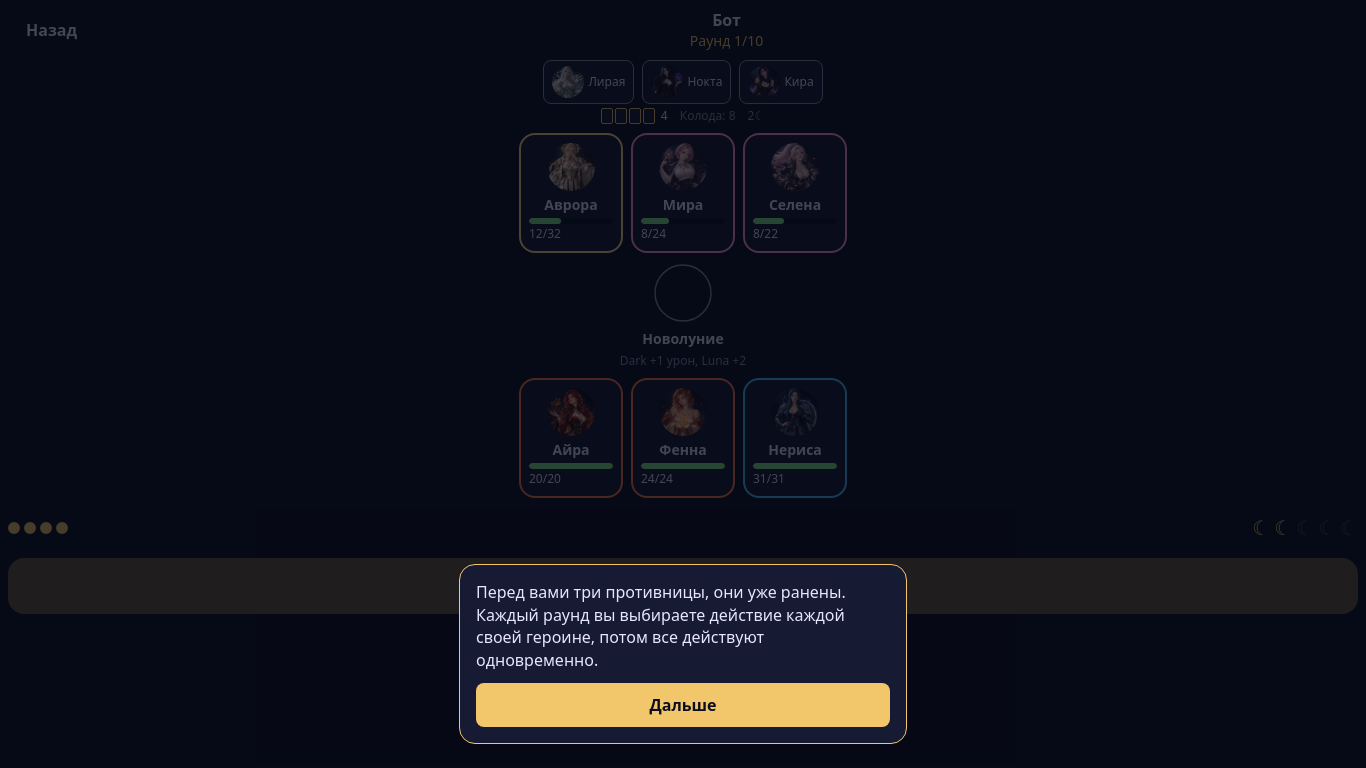
it: экран обучения › цели сужены до требуемой; верная цель продвигает шаг
This screenshot has width=1366, height=768.
Click the button "Дальше": (683, 705) [476,683,890,727]
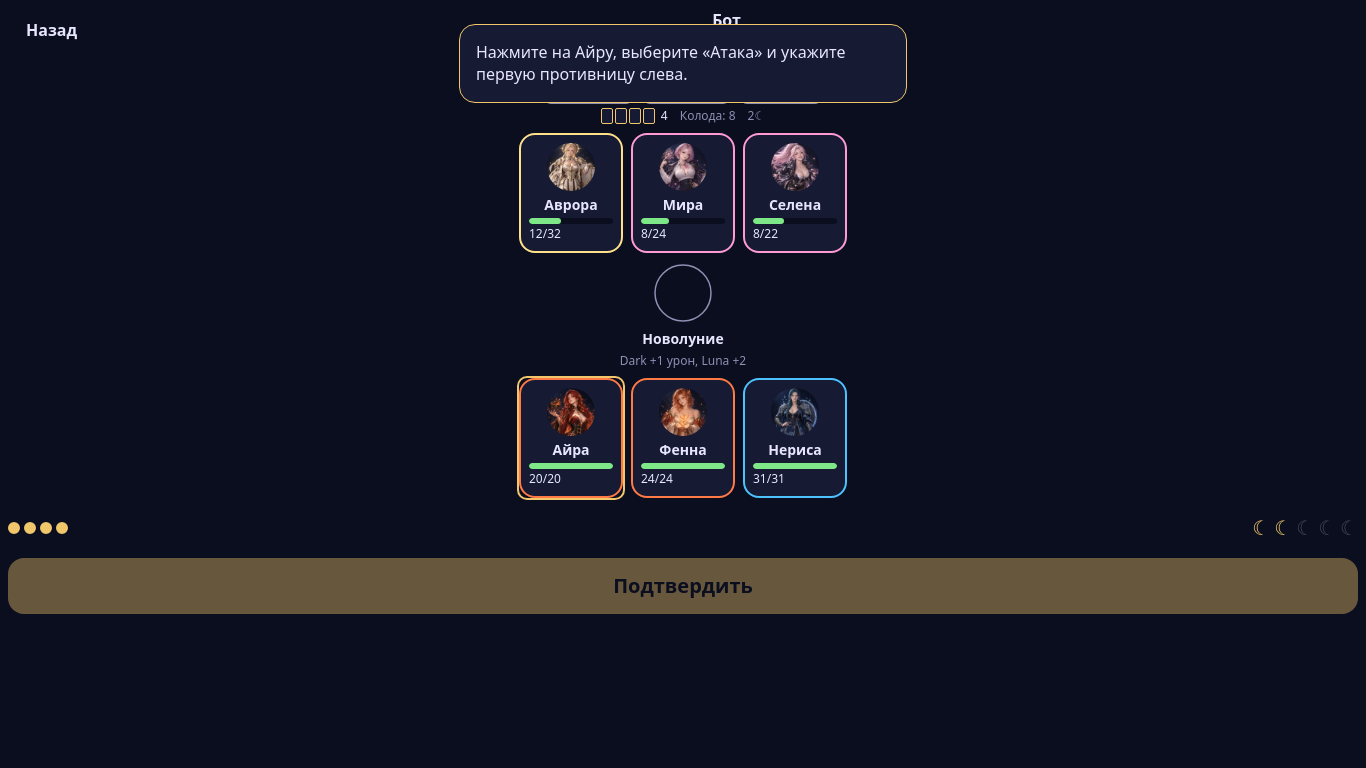
Result: the element with test id "tutorial-overlay" has attribute data-anchor="hero-A-0" at [459,24,907,103]
Result: the element with test id "tutorial-overlay" has attribute data-anchor-target="hero-B-0" at [459,24,907,103]
Click the button with test id "hero-A-0": (571, 438) [519,378,623,498]
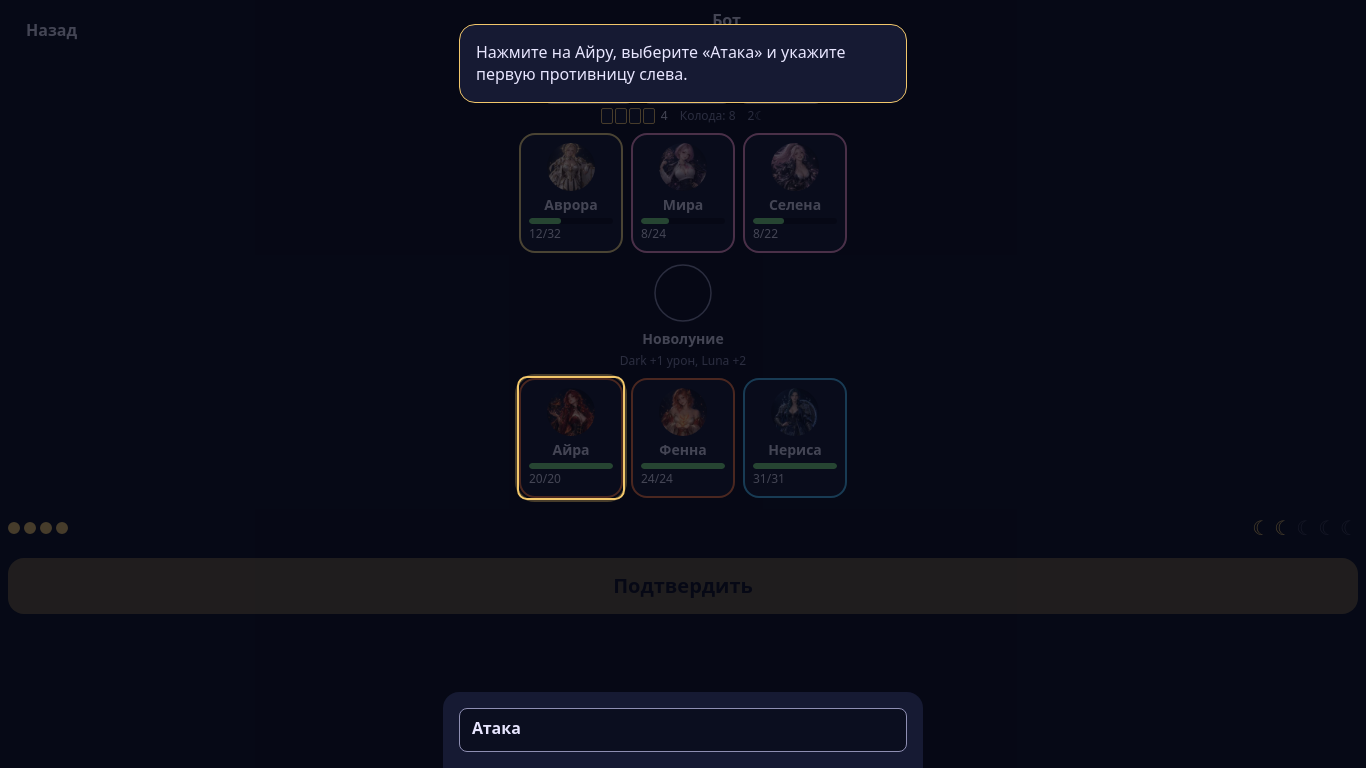
Click the button with test id "sheet-item-basic": (496, 728) [459,708,907,752]
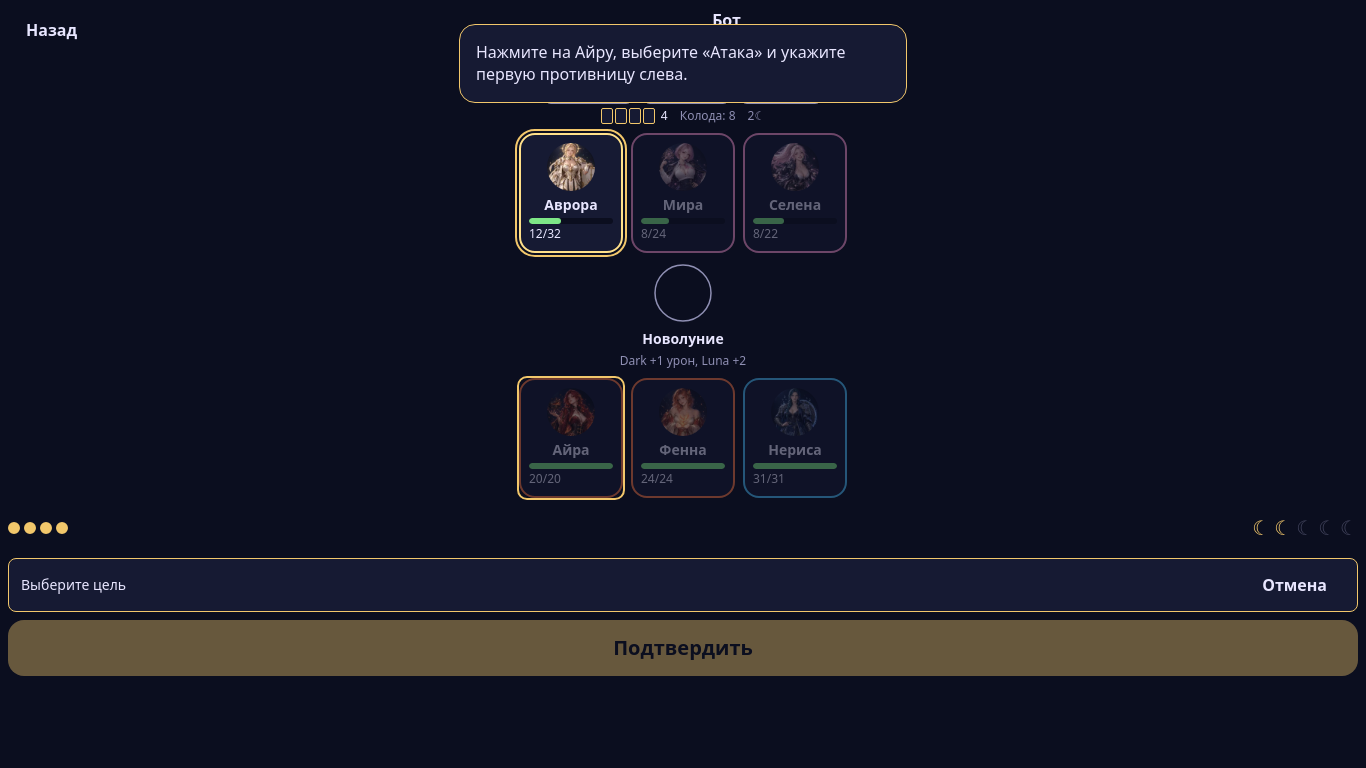
Click the button "Мира 8/24": (683, 193) [631,133,735,253]
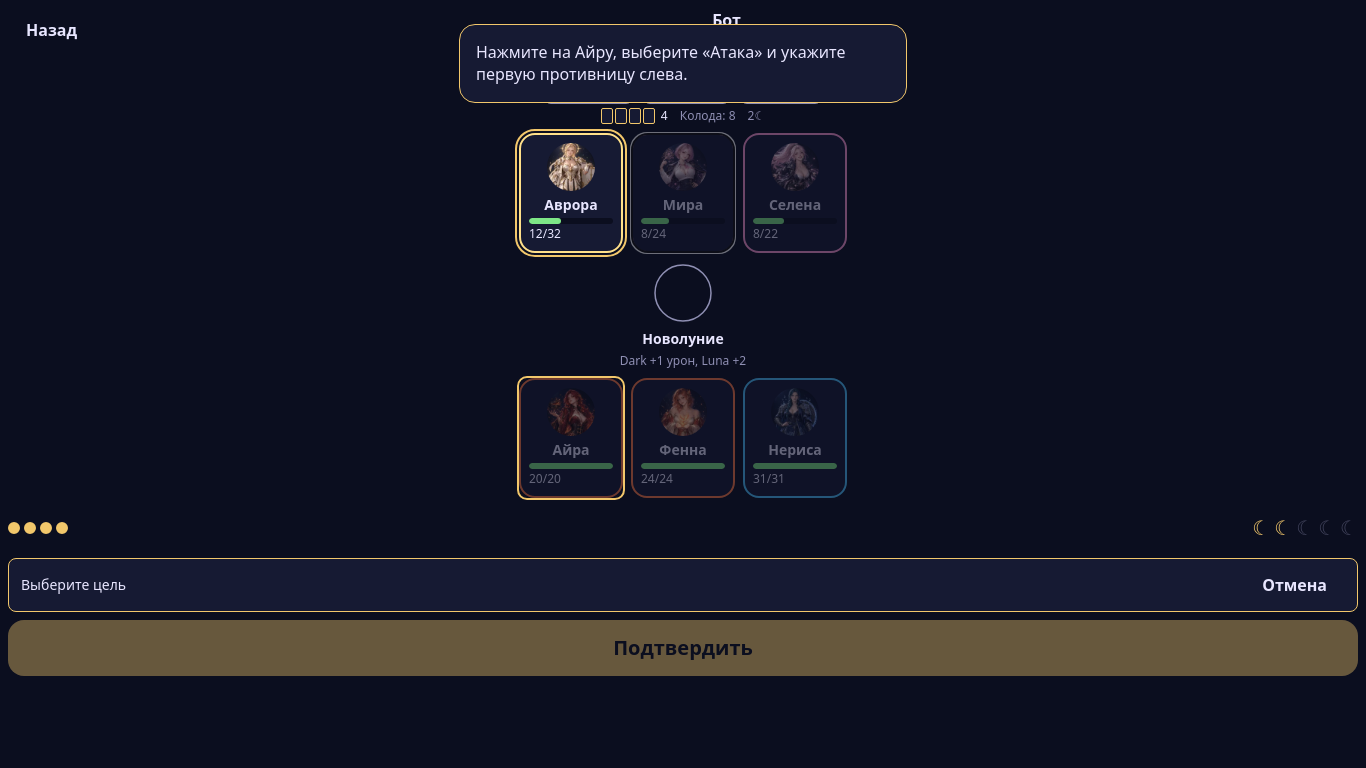
Click the button with test id "hero-B-0": (571, 193) [519,133,623,253]
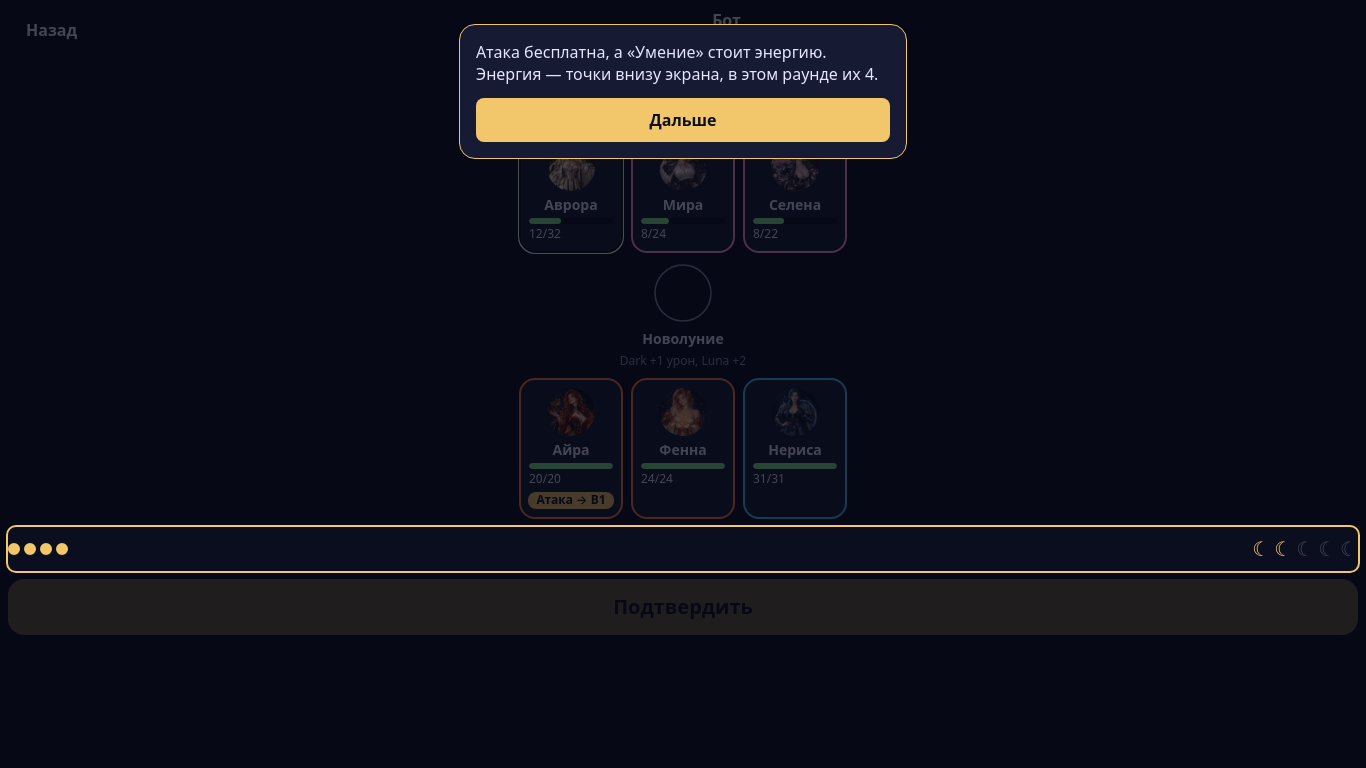
Result: the message shows "Атака бесплатна, а «Умение» стоит энергию. Энергия — точки внизу экрана, в этом раунде их 4." at [476,41,878,85]
